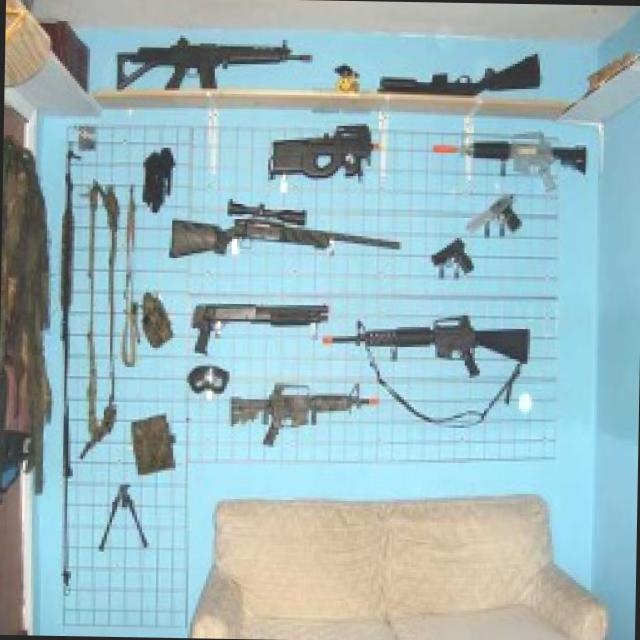long weapon: (184, 192, 398, 276), (338, 316, 534, 379), (235, 380, 382, 447)
